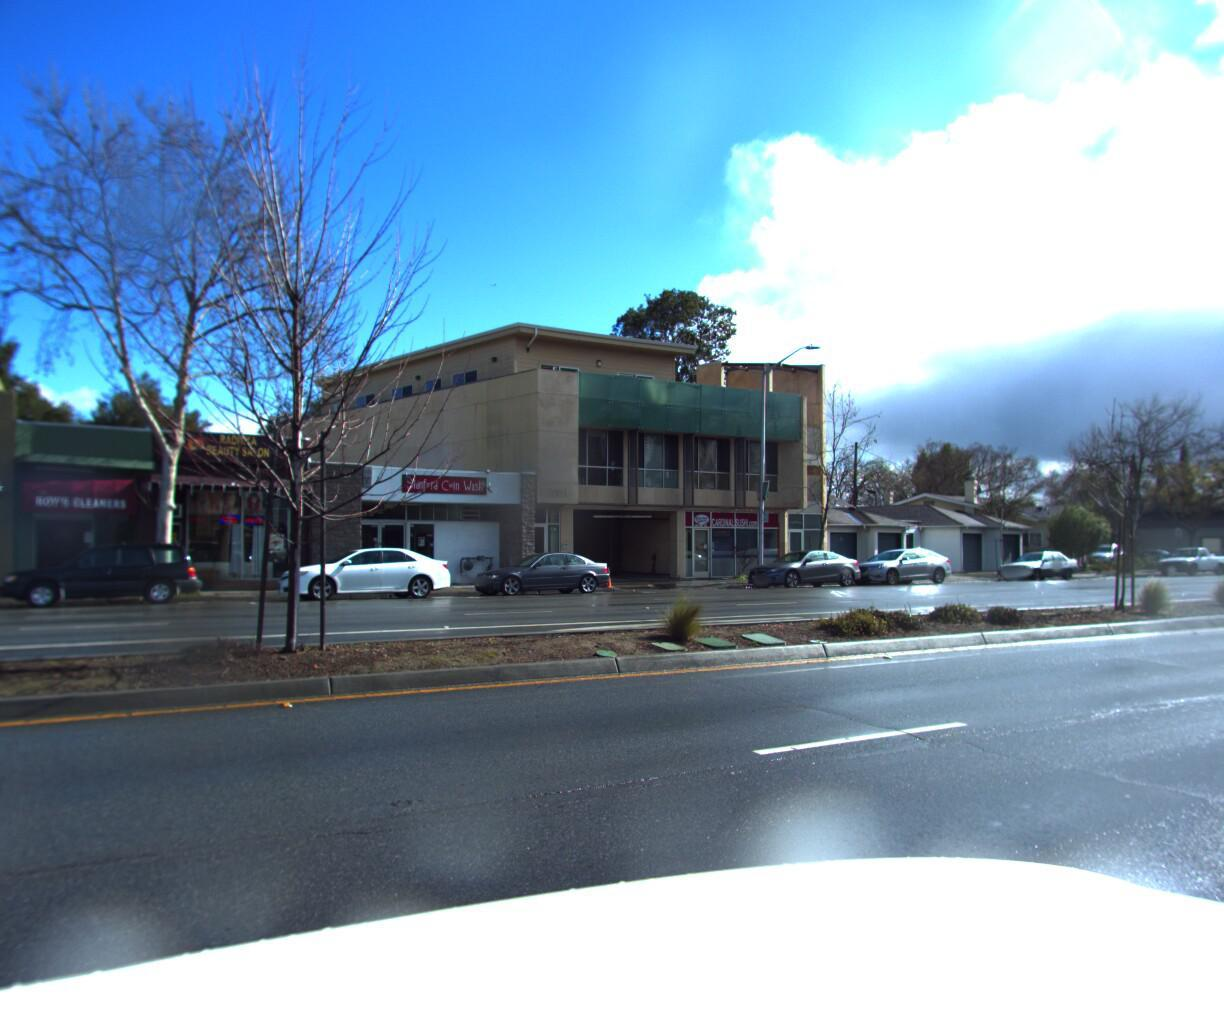car: (265, 542, 460, 608), (462, 547, 618, 594), (735, 545, 868, 588), (838, 543, 954, 586), (986, 545, 1080, 579), (1141, 541, 1224, 574), (1106, 543, 1160, 573), (1206, 541, 1224, 573)
